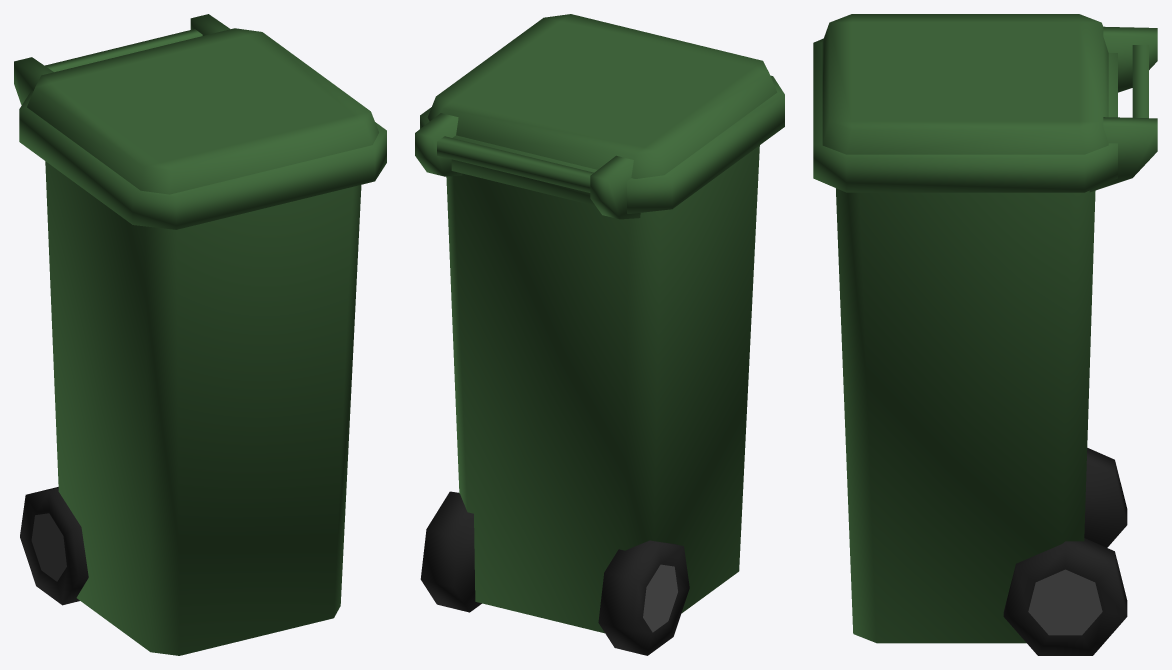
File: WheeledTrashcan_Medium.fbx
The picture shows the model from 3 angles, left to right: view 1: azimuth 30°, elevation 25°; view 2: azimuth 150°, elevation 25°; view 3: azimuth 270°, elevation 25°; orthographic projection. The views are drawn at different scales.
Visible parts, largest first — view 1: WheeledTrashcan_Medium; view 2: WheeledTrashcan_Medium; view 3: WheeledTrashcan_Medium.
Part boxes in pixels (<box>): WheeledTrashcan_Medium: <box>14,14,386,655</box>; WheeledTrashcan_Medium: <box>415,14,784,655</box>; WheeledTrashcan_Medium: <box>813,14,1157,655</box>.
Size of the model in its own units: 59.36 by 113 by 66.48.
